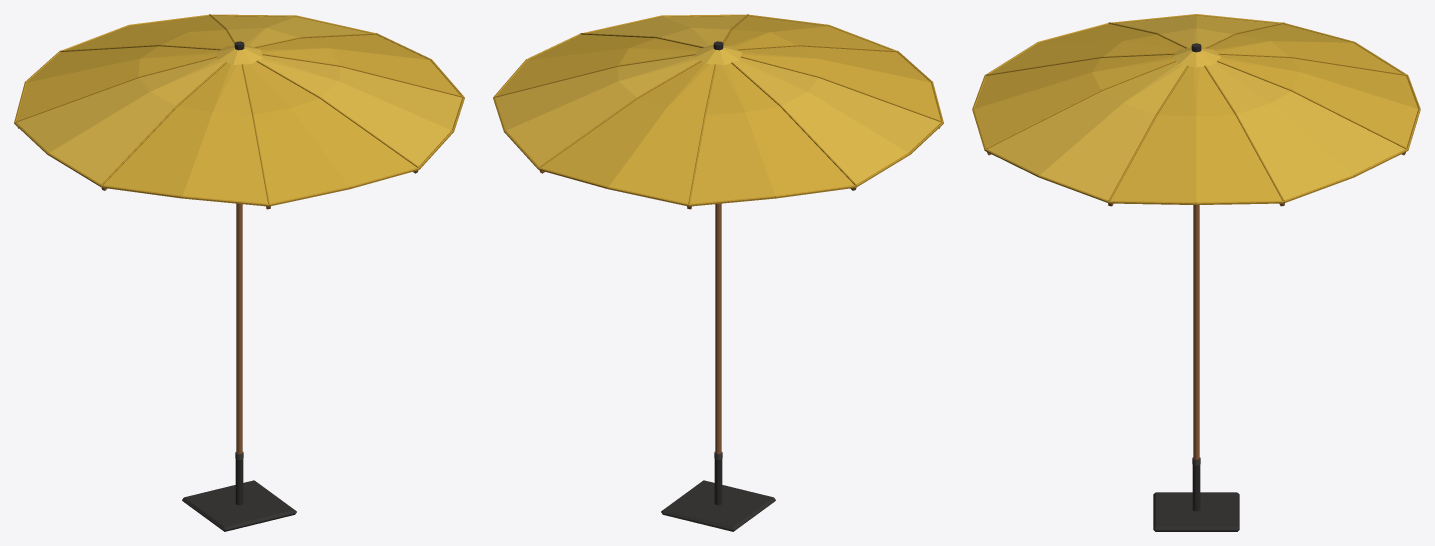
The model's file is umbrella_yellow.glb.
The picture shows the model from 3 angles, left to right: view 1: azimuth 30°, elevation 25°; view 2: azimuth 150°, elevation 25°; view 3: azimuth 270°, elevation 25°; orthographic projection.
Parts seen in each view (by area): view 1: body; view 2: body; view 3: body.
Boxes of the visible parts, <box> form: body: <box>14,14,464,531</box>; body: <box>493,14,943,531</box>; body: <box>972,14,1420,531</box>.
Bounding box in the file's own units: 2.27 × 2.62 × 2.27.
